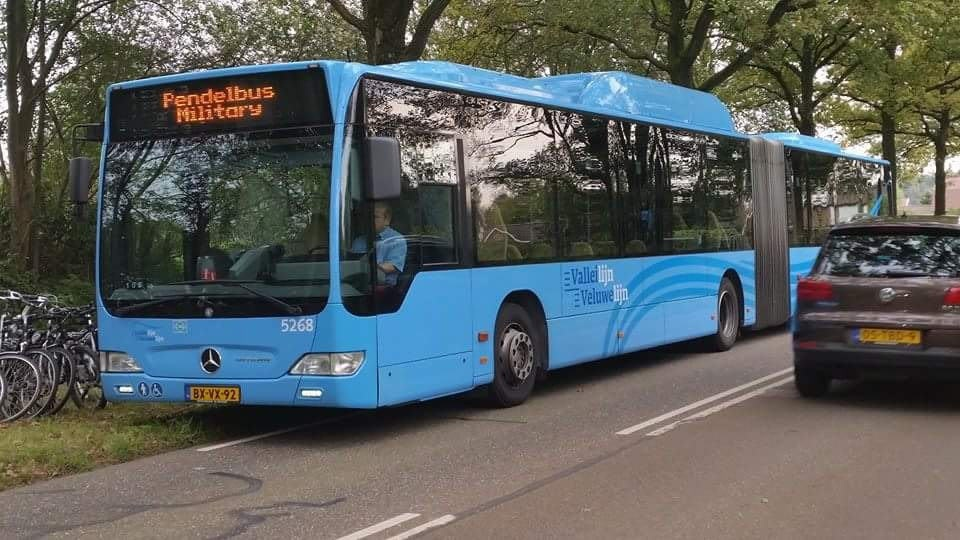bus: (90, 58, 765, 405)
